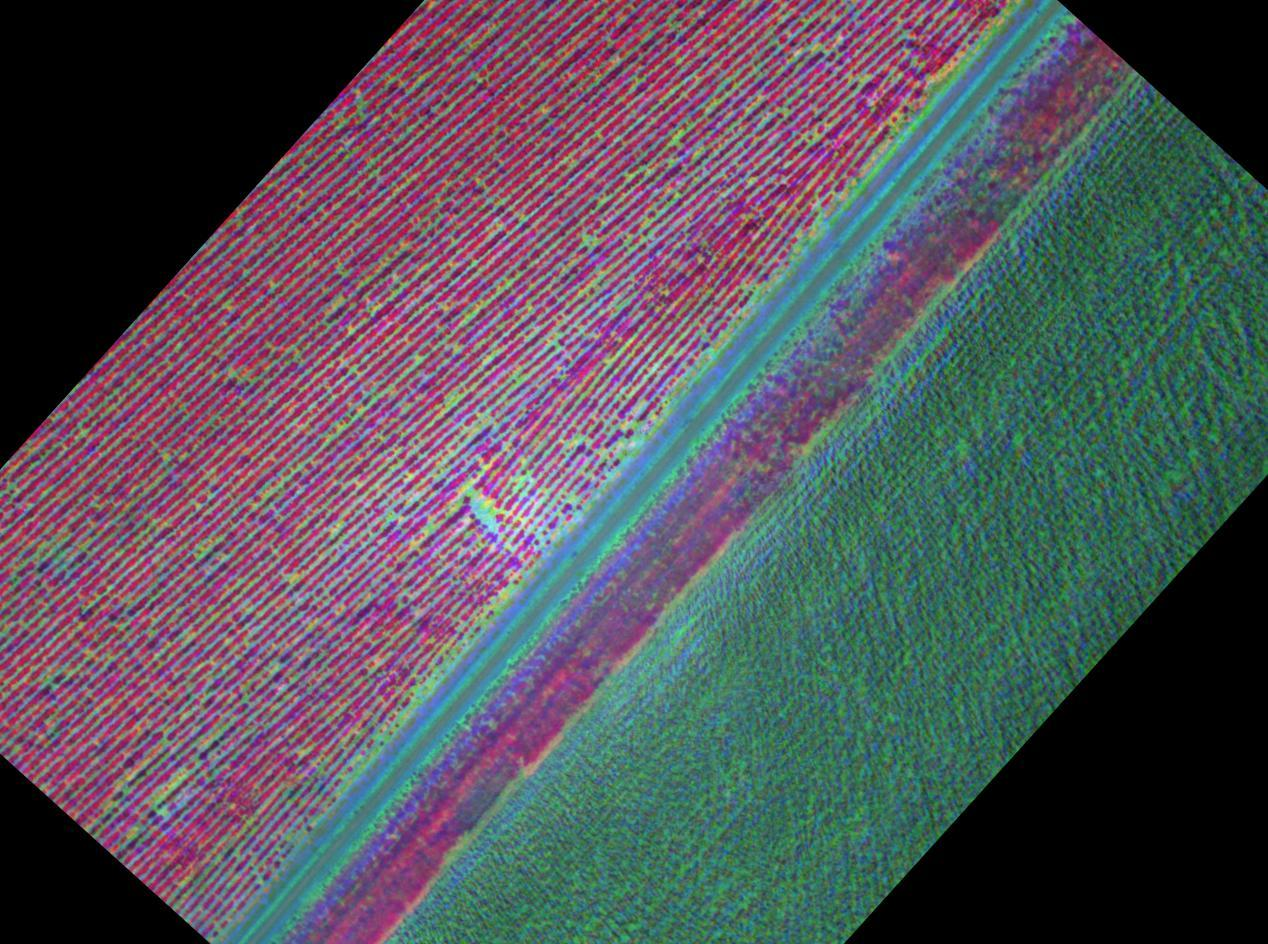dc: (333, 530, 338, 535), (164, 741, 169, 746), (518, 380, 522, 384), (81, 433, 85, 437), (474, 496, 478, 500), (486, 516, 490, 520), (297, 576, 301, 580), (53, 685, 57, 689), (165, 459, 169, 462), (272, 490, 275, 493), (80, 624, 83, 627), (303, 752, 306, 755), (429, 528, 432, 530)
